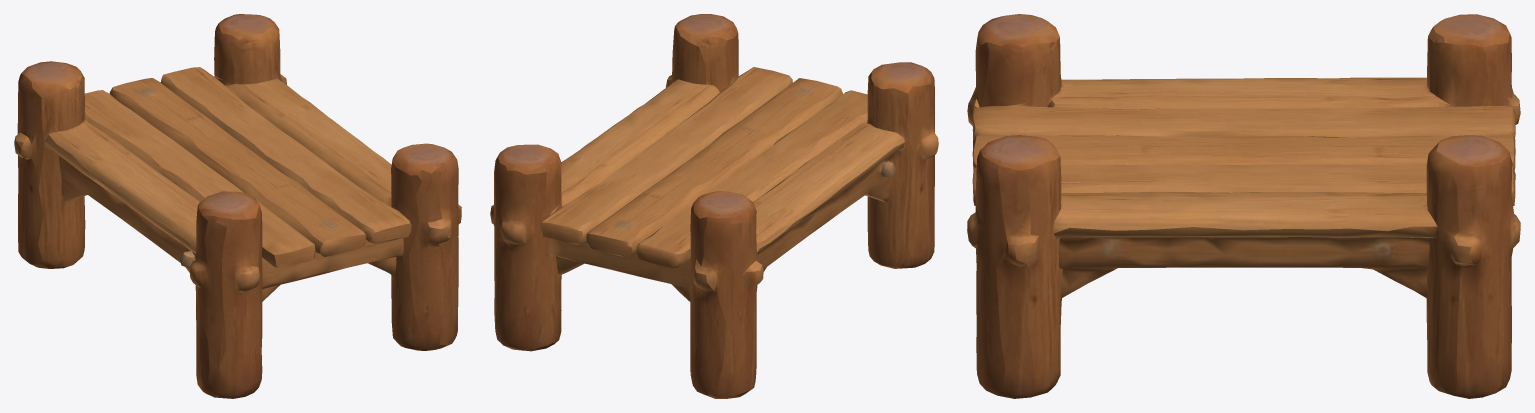
The model's file is sz-jetty.glb.
3 views of the same model, side by side, from view 1: azimuth 30°, elevation 25°; view 2: azimuth 150°, elevation 25°; view 3: azimuth 270°, elevation 25° (orthographic). The views are drawn at different scales.
Parts seen in each view (by area): view 1: geometry_0; view 2: geometry_0; view 3: geometry_0.
Boxes of the visible parts, x1=… form: geometry_0: x1=14, y1=14, x2=461, y2=398; geometry_0: x1=490, y1=14, x2=938, y2=398; geometry_0: x1=967, y1=14, x2=1520, y2=398.
Bounding box in the file's own units: 0.7104 × 0.4731 × 1.
Materials: 1 (1 with a texture image).
